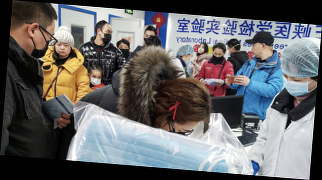with_mask: (29, 28, 55, 60), (280, 71, 311, 97), (99, 27, 113, 43), (88, 72, 102, 87), (117, 44, 130, 56), (212, 51, 224, 63), (143, 33, 155, 45), (183, 53, 194, 65), (225, 46, 232, 57)
without_mask: (53, 42, 71, 57), (250, 43, 262, 58), (197, 45, 205, 55)
